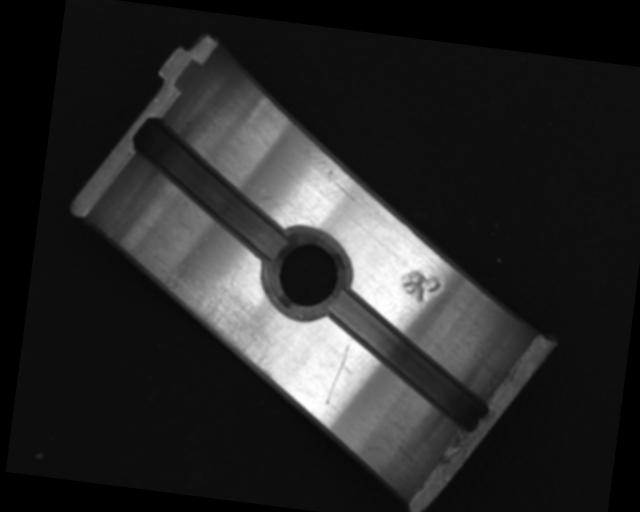bruise: (395, 268, 444, 311)
gap: (119, 116, 302, 261), (316, 291, 500, 432)
hole: (257, 219, 357, 322)
nick: (324, 339, 352, 407)
scratch: (147, 256, 292, 383)
